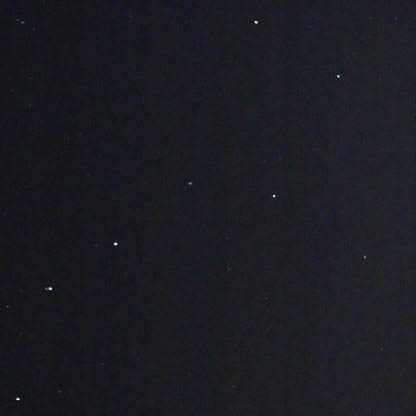Ursa Major: (323, 58, 350, 95), (35, 270, 62, 305), (263, 182, 291, 213), (101, 228, 127, 260), (174, 171, 199, 201), (246, 14, 274, 35), (9, 384, 31, 409)
